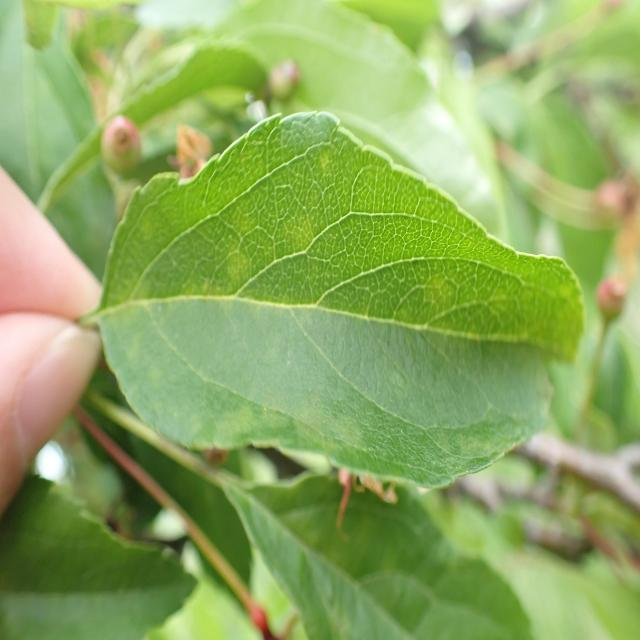scab: (105, 132, 575, 458)
